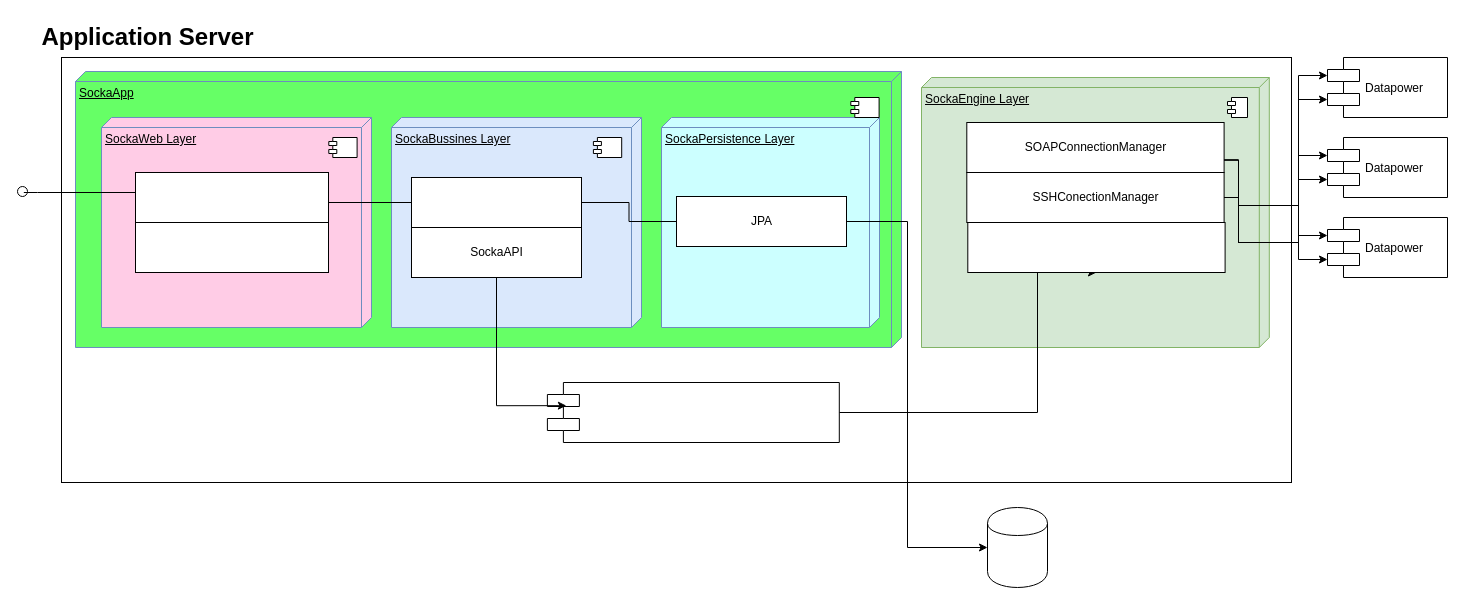
The diagram is 1465 pixels wide and 605 high, and some of its shapes have lost their labels. Each missing label, with the centre of its shape:
AngularJS: [231,197]
DB: [1017,547]
EJB: [496,202]
Jersey: [231,247]
QueueManager: [692,412]
SockaAPIEngine: [1096,247]
